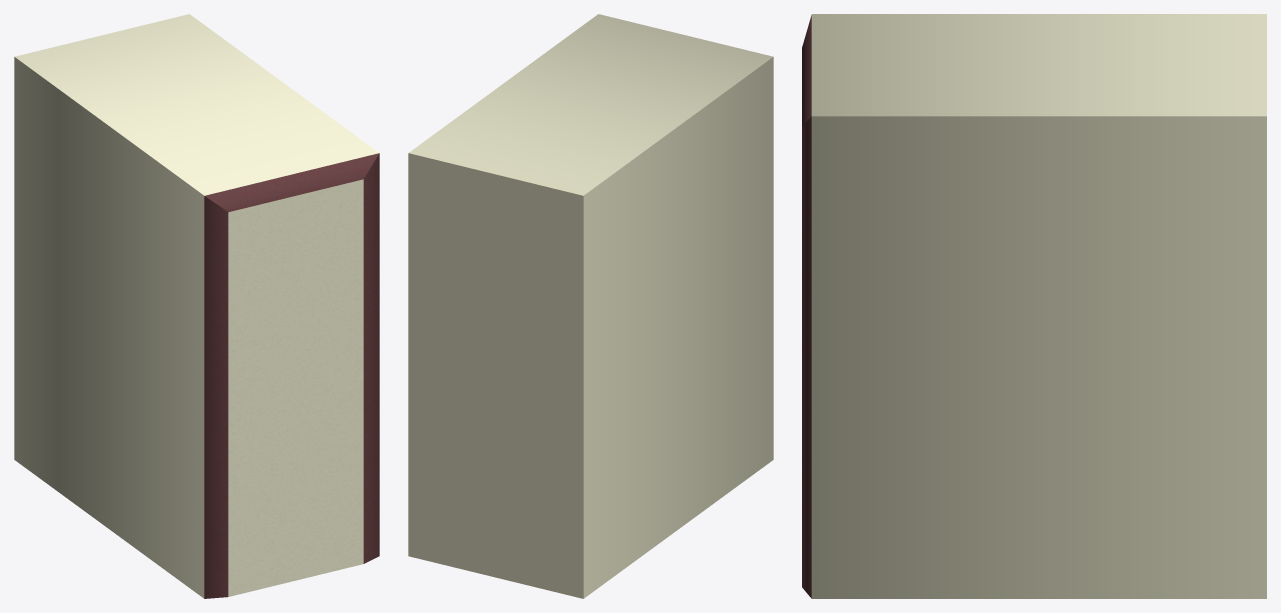
Rendered from PR_ToiletStall.fbx.
3 views of the same model, side by side, from view 1: azimuth 30°, elevation 25°; view 2: azimuth 150°, elevation 25°; view 3: azimuth 270°, elevation 25° (orthographic). The views are drawn at different scales.
Parts seen in each view (by area): view 1: ToiletStall; view 2: ToiletStall; view 3: ToiletStall.
Part boxes in pixels (bbox=[...]): ToiletStall: bbox=[14, 14, 379, 598]; ToiletStall: bbox=[408, 14, 773, 598]; ToiletStall: bbox=[802, 14, 1266, 598].
Bounding box in the file's own units: 1 × 2.2 × 1.92.
